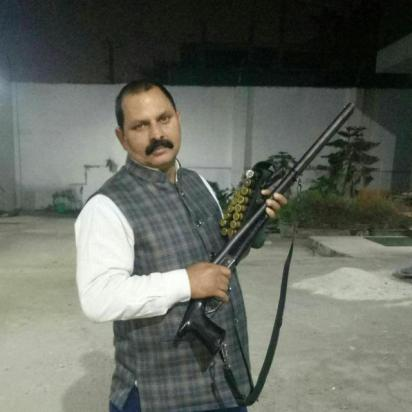Gun: (174, 100, 356, 360)
